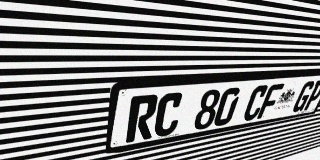0: (212, 87, 242, 127)
8: (192, 89, 223, 131)
C: (152, 92, 185, 138), (241, 85, 270, 122)
F: (256, 83, 285, 119)
G: (290, 81, 317, 113)
P: (302, 80, 320, 111)
R: (125, 94, 159, 143)
